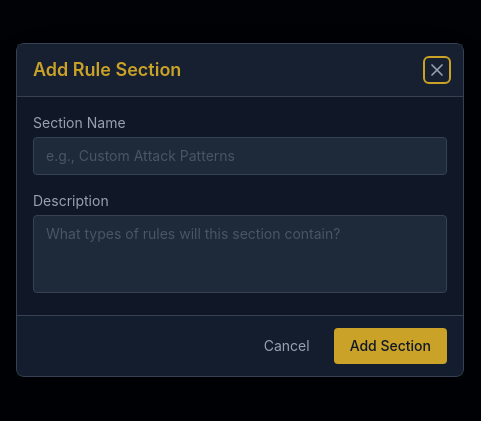
AddSectionModal › shows error when submitting without name
Click the button "Add Section".
click(390, 346)  # box [334, 328, 447, 364]
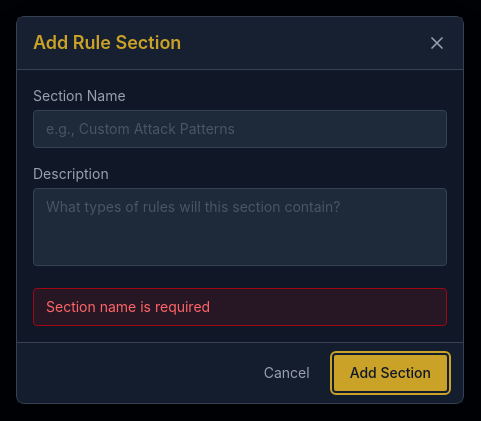
Expected: the text "Section name is required" is shown, [33, 288, 447, 326]
